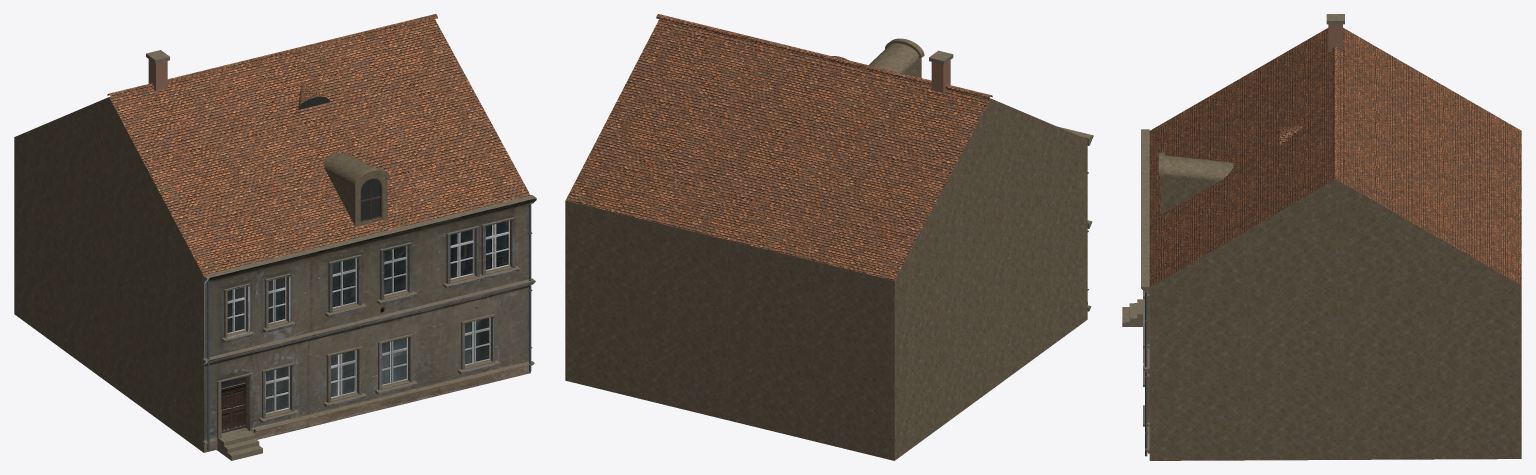
The model's file is cp261_openings_geometry.glb.
3 views of the same model, side by side, from view 1: azimuth 30°, elevation 25°; view 2: azimuth 150°, elevation 25°; view 3: azimuth 270°, elevation 25° (orthographic). The views are drawn at different scales.
Parts seen in each view (by area): view 1: CP_261_Roof, CP_261_Masonry_With_Openings, CP_261_Frames_Sills_And_Cornices, CP_261_Individual_Photographic_Panes, CP_261_Timber_Frames, CP_261_Roof_Dormers, CP_261_Metal_Gutters_And_Downpipes, CP_261_Glazing_And_Doors, CP_261_Entrance_Three_Steps_PROVISIONAL, CP_261_Chimney, CP_261_Dormer_Glass; view 2: CP_261_Masonry_With_Openings, CP_261_Roof, CP_261_Roof_Dormers, CP_261_Chimney; view 3: CP_261_Roof, CP_261_Masonry_With_Openings, CP_261_Roof_Dormers, CP_261_Frames_Sills_And_Cornices, CP_261_Chimney, CP_261_Entrance_Three_Steps_PROVISIONAL, CP_261_Metal_Gutters_And_Downpipes.
Part boxes in pixels (<box>): CP_261_Roof: <box>14,14,530,274</box>; CP_261_Masonry_With_Openings: <box>14,137,530,452</box>; CP_261_Frames_Sills_And_Cornices: <box>202,195,536,445</box>; CP_261_Individual_Photographic_Panes: <box>227,221,508,412</box>; CP_261_Timber_Frames: <box>227,220,509,428</box>; CP_261_Roof_Dormers: <box>324,152,387,226</box>; CP_261_Metal_Gutters_And_Downpipes: <box>206,200,534,450</box>; CP_261_Glazing_And_Doors: <box>221,376,245,433</box>; CP_261_Entrance_Three_Steps_PROVISIONAL: <box>217,428,262,460</box>; CP_261_Chimney: <box>146,50,169,91</box>; CP_261_Dormer_Glass: <box>361,179,379,220</box>; CP_261_Masonry_With_Openings: <box>565,140,1087,460</box>; CP_261_Roof: <box>565,14,1087,280</box>; CP_261_Roof_Dormers: <box>869,43,921,77</box>; CP_261_Chimney: <box>929,50,953,92</box>; CP_261_Roof: <box>1149,28,1521,287</box>; CP_261_Masonry_With_Openings: <box>1149,285,1521,460</box>; CP_261_Roof_Dormers: <box>1161,155,1233,214</box>; CP_261_Frames_Sills_And_Cornices: <box>1141,129,1149,453</box>; CP_261_Chimney: <box>1326,14,1344,51</box>; CP_261_Entrance_Three_Steps_PROVISIONAL: <box>1122,299,1143,326</box>; CP_261_Metal_Gutters_And_Downpipes: <box>1145,292,1147,456</box>.
Size of the model in its own units: 13.85 by 12.74 by 14.82.
14 materials, 11 textured.
